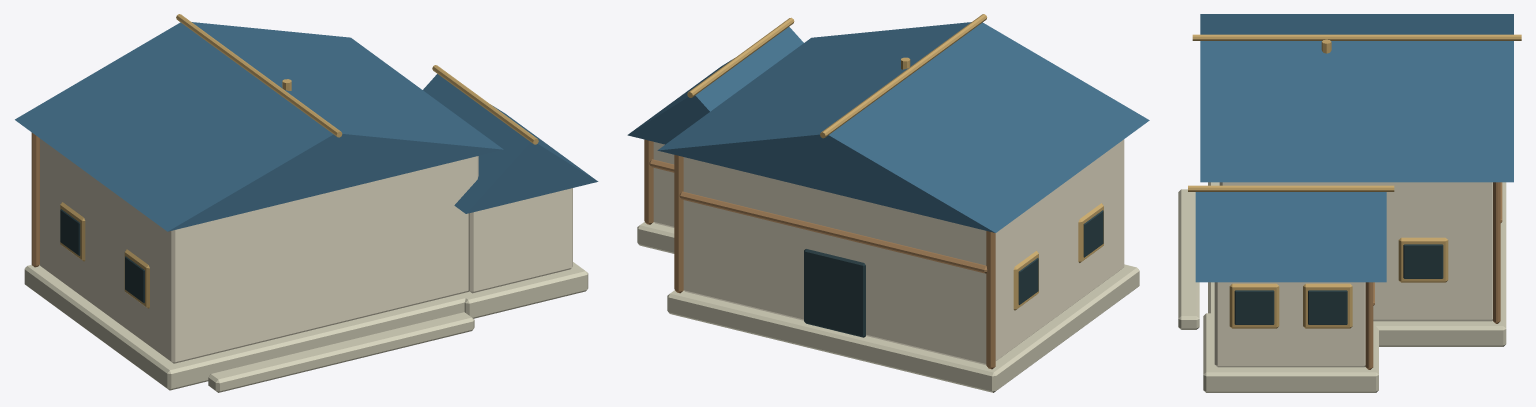
File: level_11.glb
3 renders of one model, left to right at view 1: azimuth 30°, elevation 25°; view 2: azimuth 150°, elevation 25°; view 3: azimuth 270°, elevation 25°, orthographic. The views are drawn at different scales.
Visible parts, largest first — view 1: warehouse — level 11; view 2: warehouse — level 11; view 3: warehouse — level 11.
Part boxes in pixels (x1,y1,x2,y2): warehouse — level 11: (15, 14, 598, 392); warehouse — level 11: (627, 14, 1149, 392); warehouse — level 11: (1178, 14, 1521, 392).
Size of the model in its own units: 6.63 by 3.35 by 4.49.
